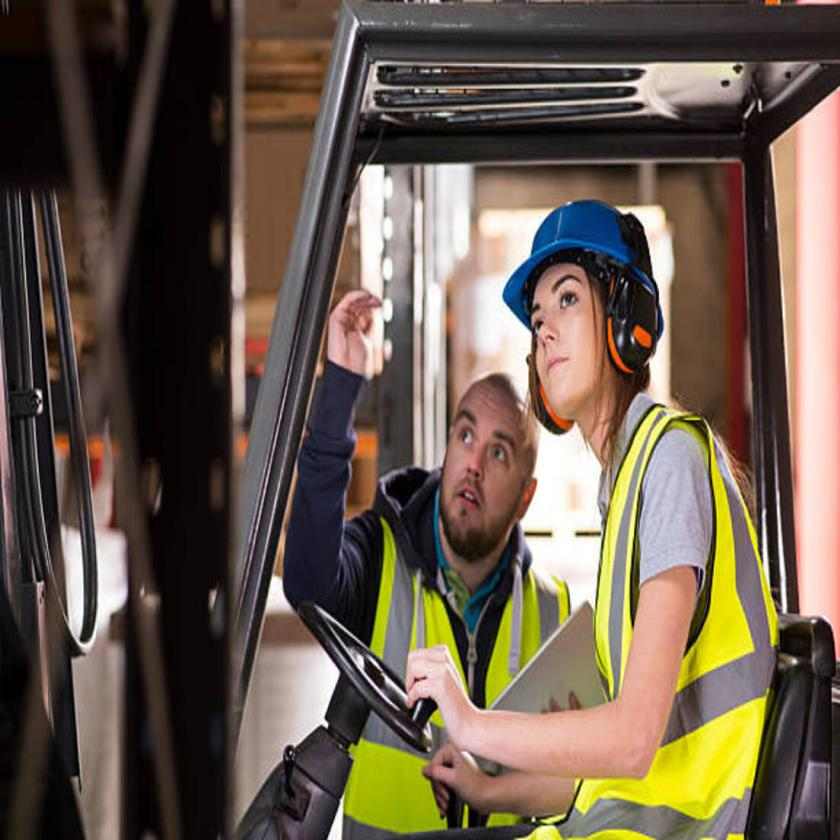Con_casco: (498, 196, 662, 449)
Sin_casco: (439, 369, 544, 590)
